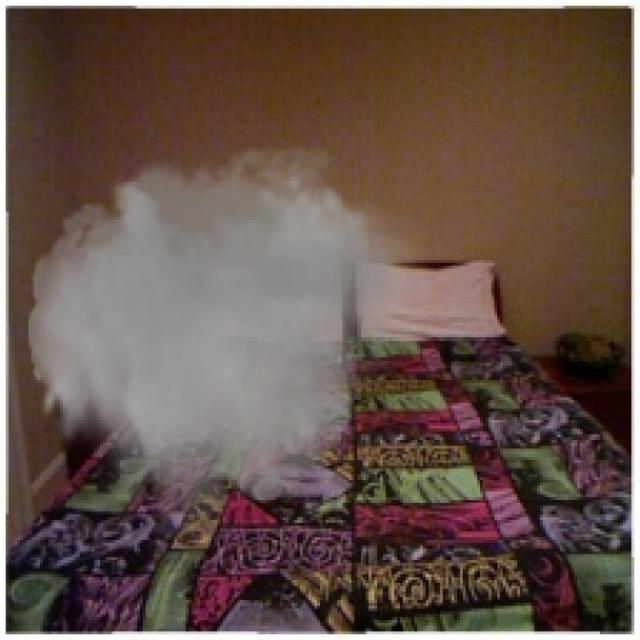smoke: (17, 128, 437, 548)
